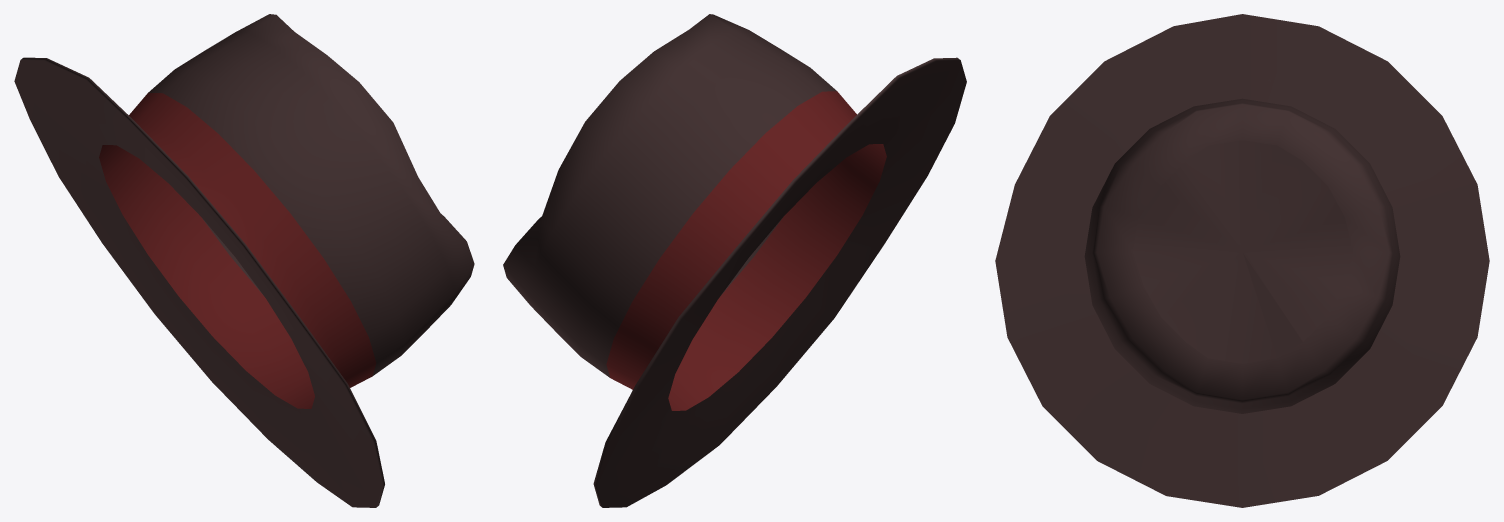
Rendered from Hat.fbx.
3 renders of one model, left to right at view 1: azimuth 30°, elevation 25°; view 2: azimuth 150°, elevation 25°; view 3: azimuth 270°, elevation 25°, orthographic. The views are drawn at different scales.
Visible parts, largest first — view 1: pCylinder1; view 2: pCylinder1; view 3: pCylinder1.
Boxes of the visible parts, left/top/right/bottom form: pCylinder1: left=14, top=14, right=474, bottom=507; pCylinder1: left=503, top=14, right=966, bottom=507; pCylinder1: left=995, top=14, right=1489, bottom=507.
Bounding box in the file's own units: 4.94 × 6.24 × 7.03.
